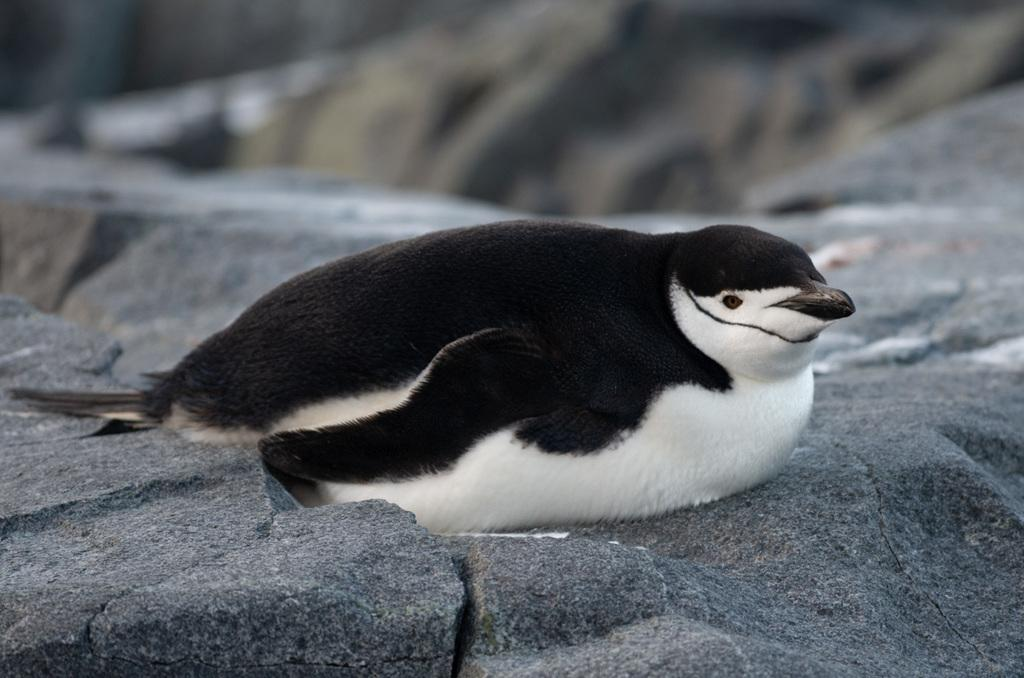chinstrap: (16, 163, 881, 590)
